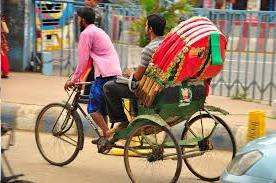Rickshaw: (40, 11, 234, 181)
